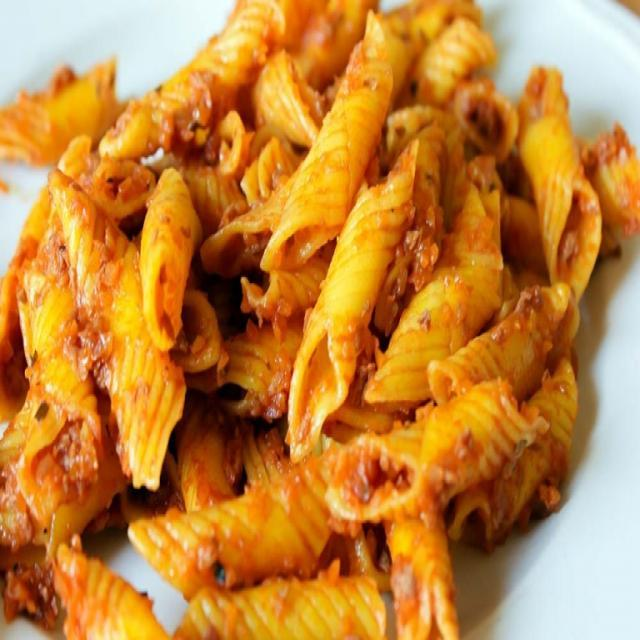Pasta al ragu: (11, 4, 599, 602)
